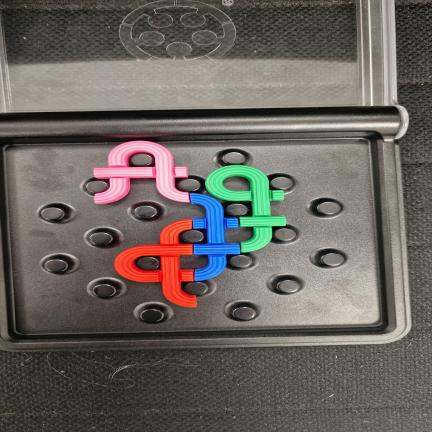C_DarkBlue: (190, 194, 240, 280)
D_Green: (206, 166, 286, 252)
E_Red: (114, 220, 196, 307)
G_Pink: (94, 141, 189, 203)
board: (0, 106, 411, 352)
hinge: (0, 108, 403, 139)
pin: (140, 308, 164, 323), (183, 281, 208, 295), (40, 207, 64, 221), (44, 259, 68, 273), (136, 256, 160, 270), (320, 253, 344, 267), (276, 279, 300, 293), (232, 306, 256, 320), (270, 176, 293, 190), (178, 178, 201, 192), (134, 205, 157, 219), (317, 201, 340, 215), (229, 254, 252, 268), (89, 232, 113, 245), (92, 284, 116, 297), (131, 153, 154, 166), (86, 180, 109, 193), (225, 203, 248, 216), (273, 228, 296, 241), (181, 230, 204, 243), (222, 152, 246, 164)
